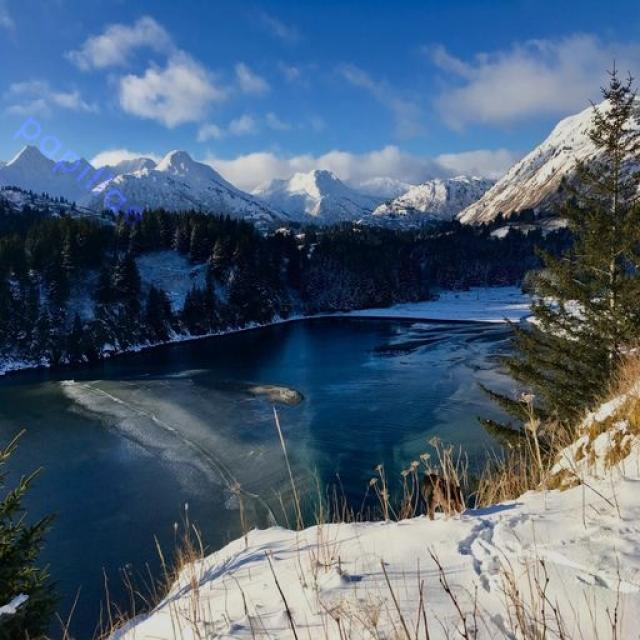watermark: (5, 98, 163, 236)
